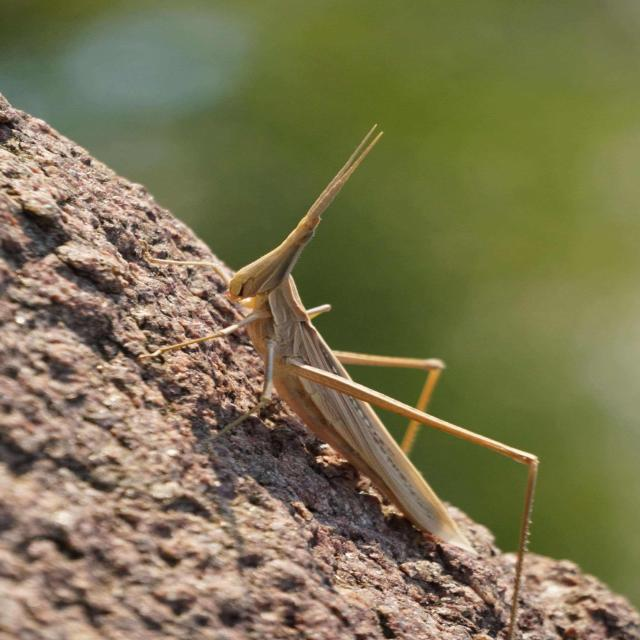ZhaMeng: (127, 109, 578, 593)
